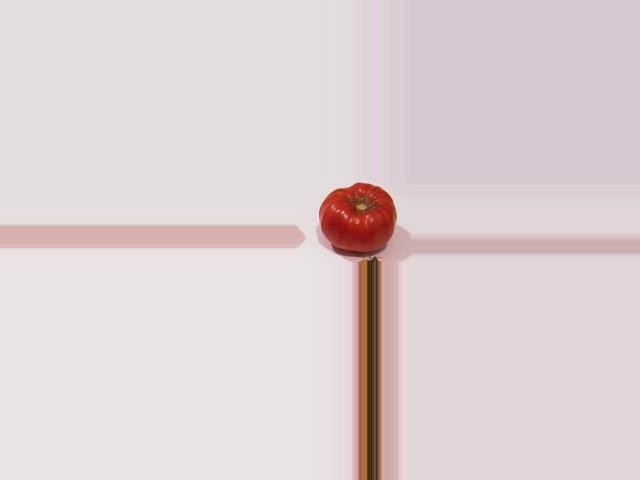tomato: (319, 183, 395, 251)
